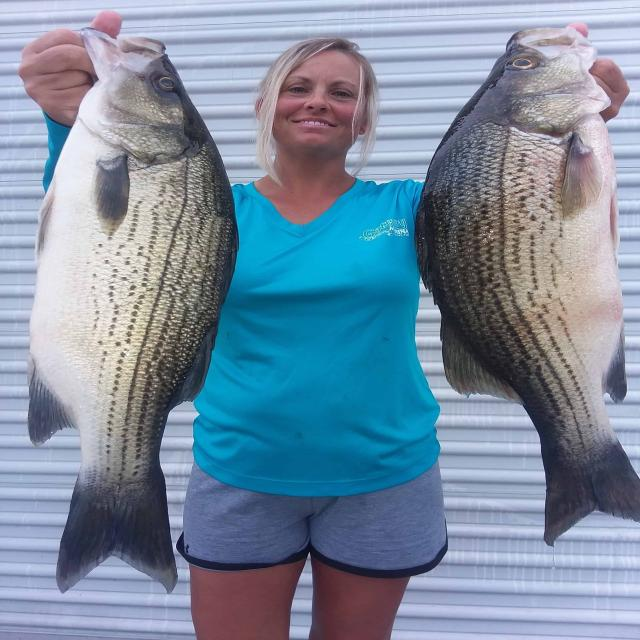Bass - Striped: (28, 28, 237, 592), (416, 28, 639, 544)
